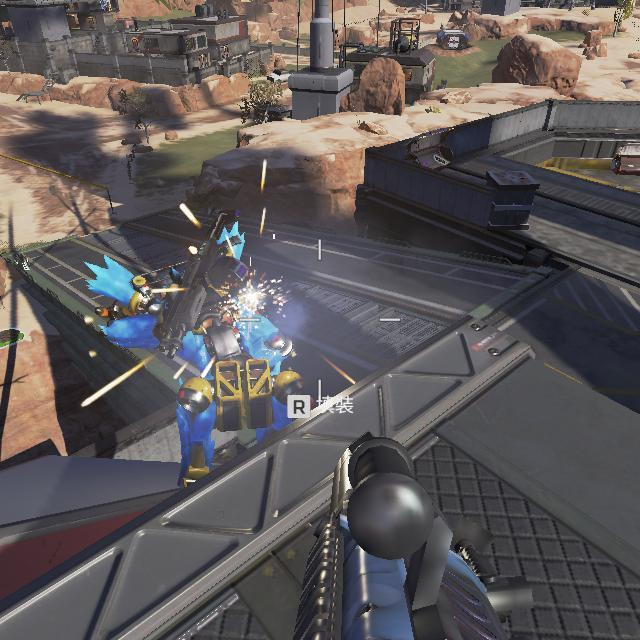avatar: (80, 214, 316, 493)
